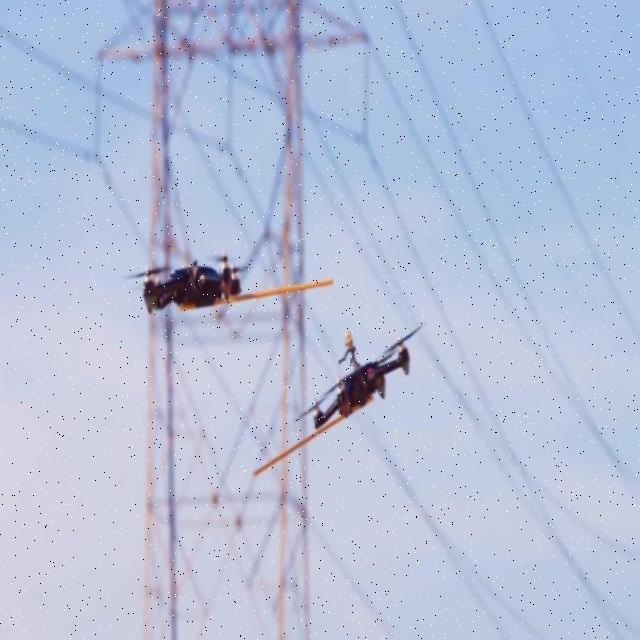UAV: (296, 327, 423, 431), (142, 250, 245, 318)
